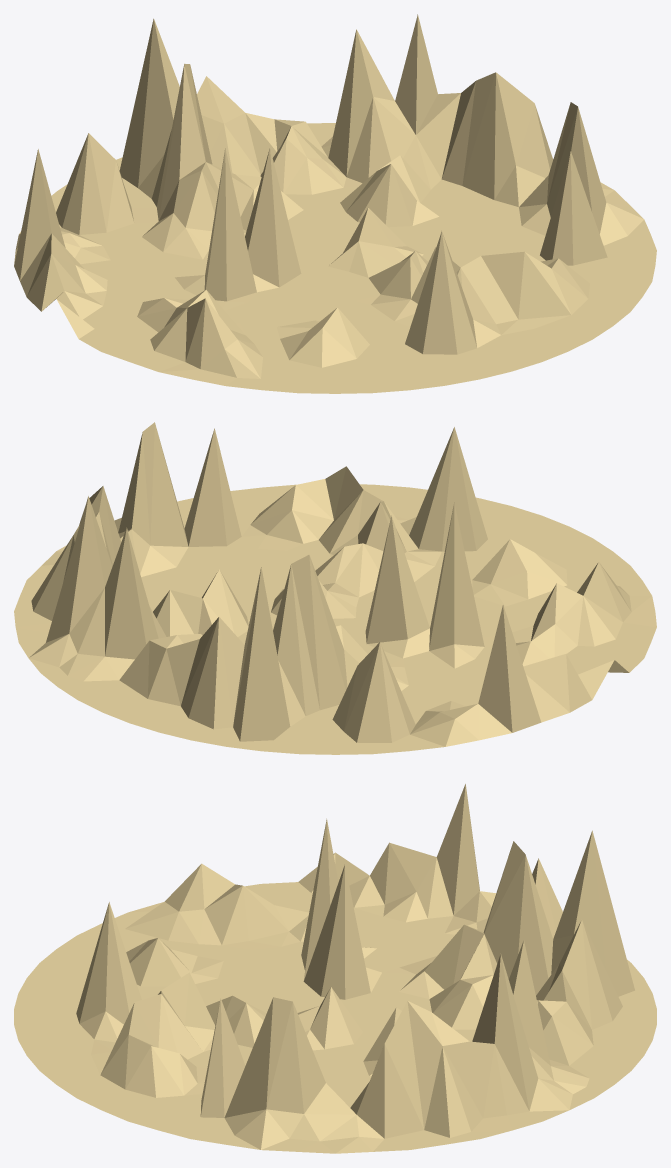
File: thorn_grass.FBX
The picture shows the model from 3 angles, top to bottom: view 1: azimuth 30°, elevation 25°; view 2: azimuth 150°, elevation 25°; view 3: azimuth 270°, elevation 25°; orthographic projection.
Visible parts, largest first — view 1: Circle001; view 2: Circle001; view 3: Circle001.
Part boxes in pixels (left/top/right/bottom): Circle001: left=14, top=14, right=656, bottom=393; Circle001: left=14, top=422, right=656, bottom=754; Circle001: left=14, top=784, right=656, bottom=1153.
Bounding box in the file's own units: 28.67 × 7.84 × 28.48.
